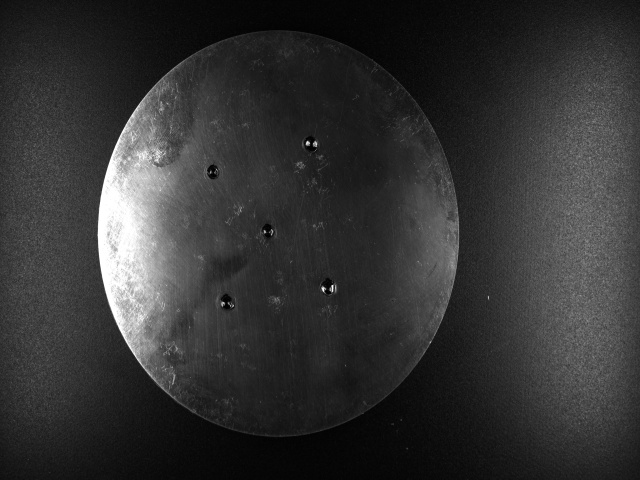zhen_kong: (216, 291, 242, 314), (317, 274, 337, 300), (258, 221, 278, 241), (302, 132, 320, 154), (205, 159, 223, 180)
